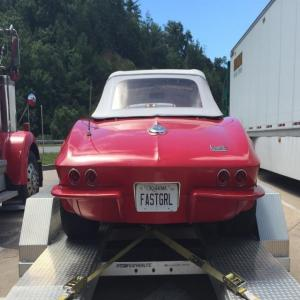Plate: (134, 182, 180, 212)
